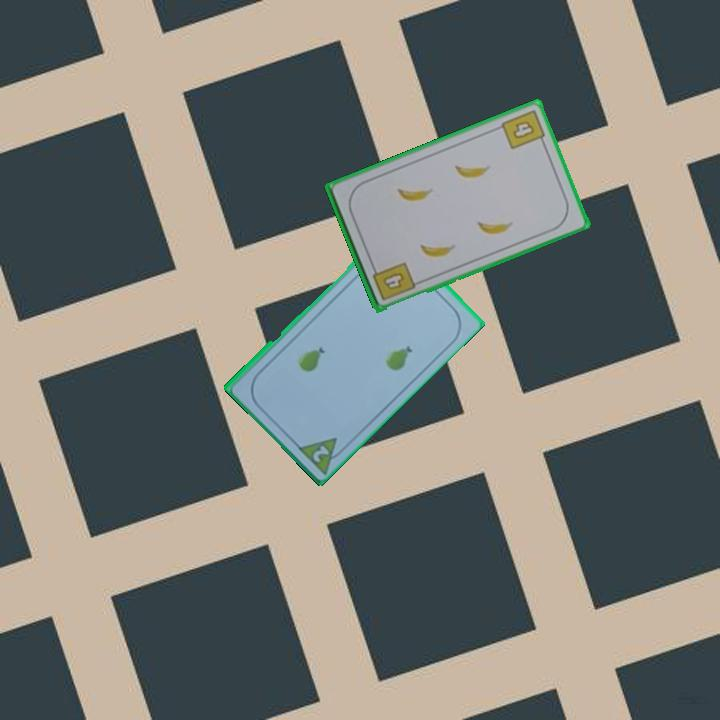2p: (309, 441, 332, 465)
4b: (498, 106, 549, 152), (368, 258, 418, 304)
